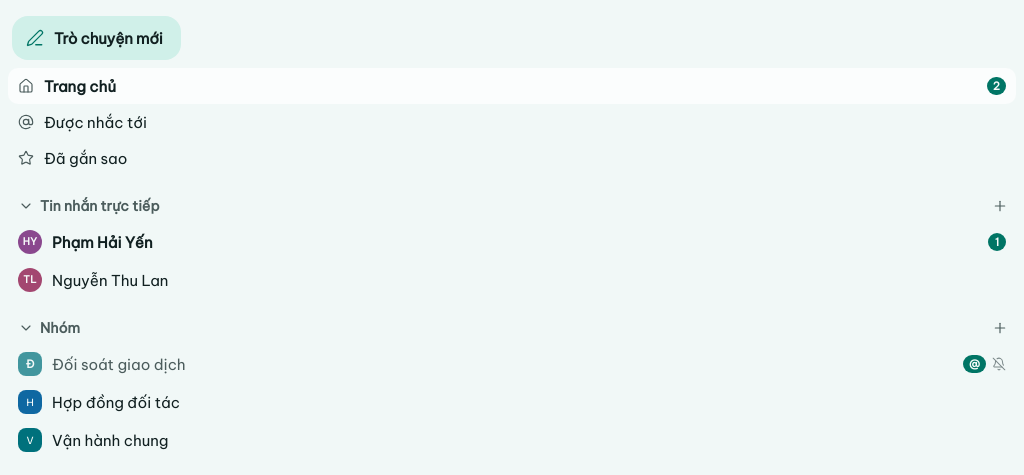
Test: muted conversations › counts only mentions on the header of a folded section too
Check: the list named "Nhóm" is shown, box [8,346,1016,458]
Click the button "Nhóm": (60,328) [12,314,982,342]
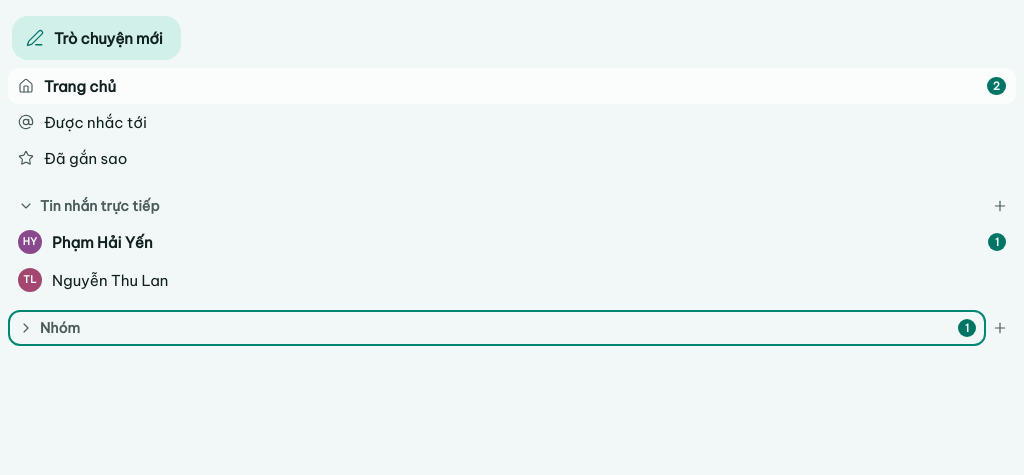
Check: the text named "1 tin chưa đọc" is shown, box [958,319,976,337]
